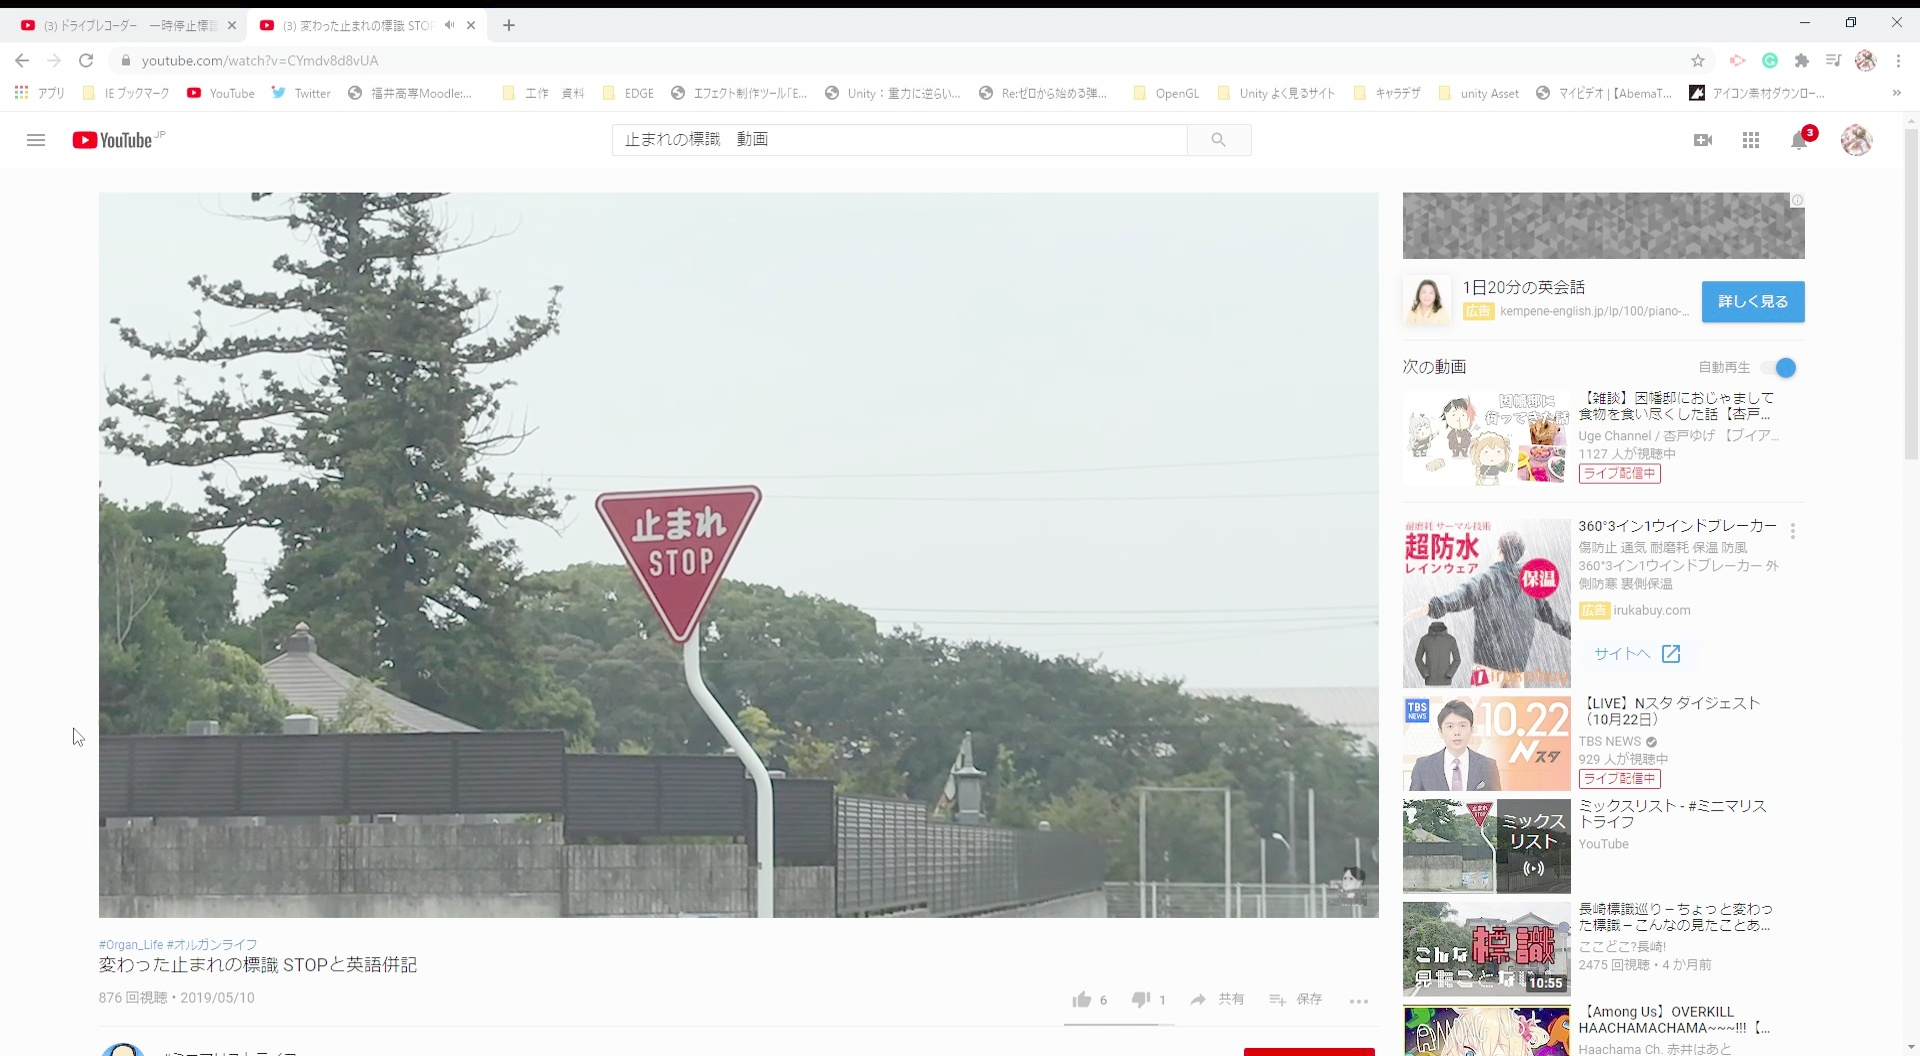Regulatory_sign_triangle: (578, 469, 773, 642)
